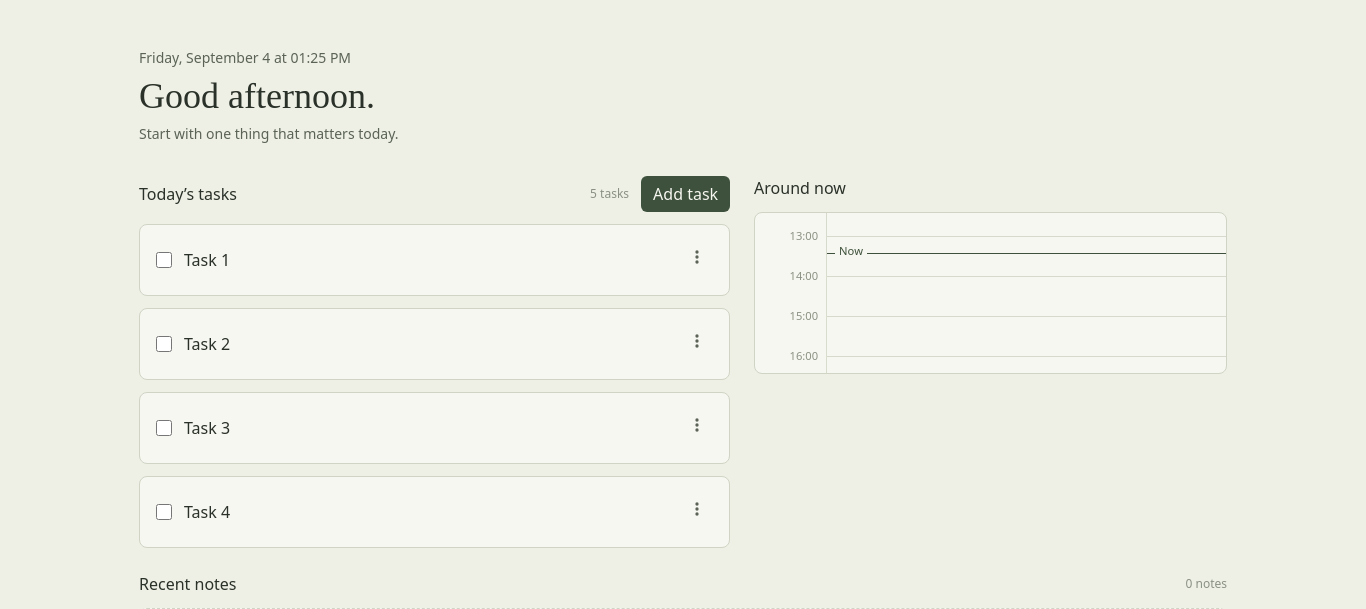
Test: HomePage tasks › lets the next open task in when one of the four is completed
This screenshot has width=1366, height=609.
Expected: the heading "Task 1" is shown, [184, 249, 230, 271]
Expected: the text "Task 5" is not shown
Click the checkbox named "Mark Task 1 as done" at x=164, y=260, box [156, 252, 172, 268]
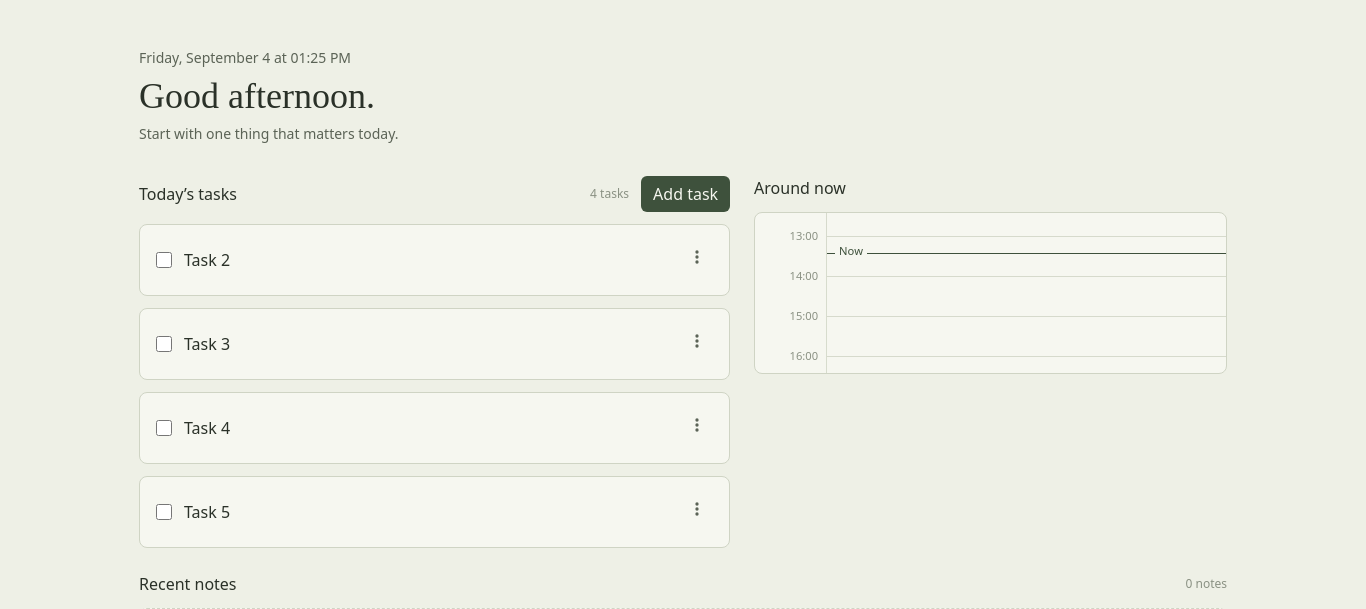
Expected: the heading "Task 2" is shown, [184, 249, 230, 271]
Expected: the heading "Task 5" is shown, [184, 501, 230, 523]
Expected: the heading "Task 1" is gone
